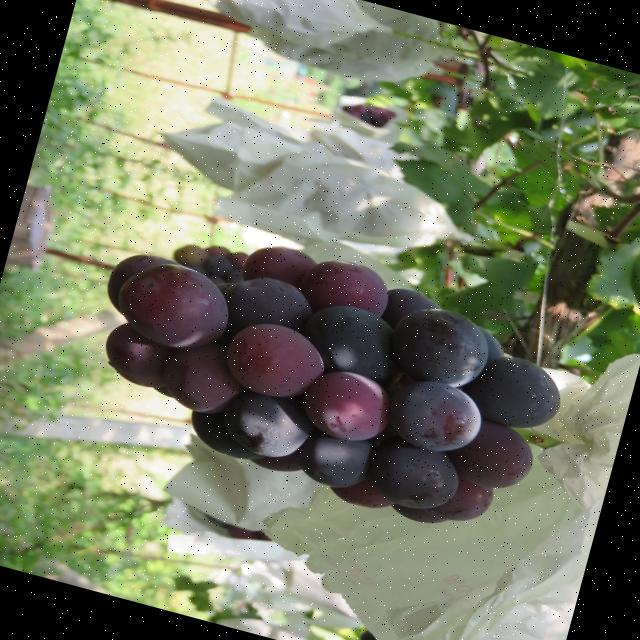grape: (106, 245, 559, 522)
